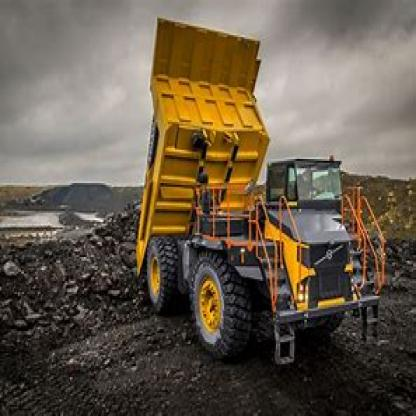dump_truck: (133, 13, 384, 364)
